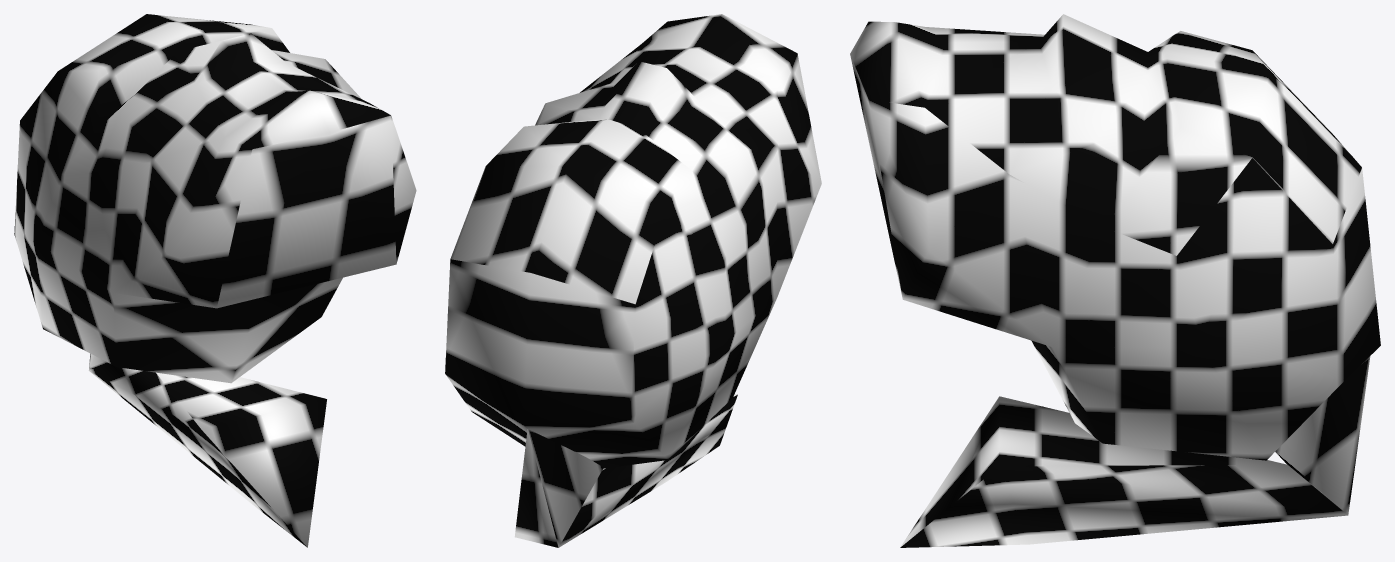
The model's file is infaunhuma6.dae.
3 renders of one model, left to right at view 1: azimuth 30°, elevation 25°; view 2: azimuth 150°, elevation 25°; view 3: azimuth 270°, elevation 25°, orthographic. The views are drawn at different scales.
Parts seen in each view (by area): view 1: face; view 2: face; view 3: face.
Boxes of the visible parts, x1=… form: face: x1=14, y1=14, x2=416, y2=547; face: x1=445, y1=14, x2=821, y2=547; face: x1=850, y1=14, x2=1380, y2=547.
Size of the model in its own units: 1.04 by 1.51 by 1.65.
1 material, 1 textured.
